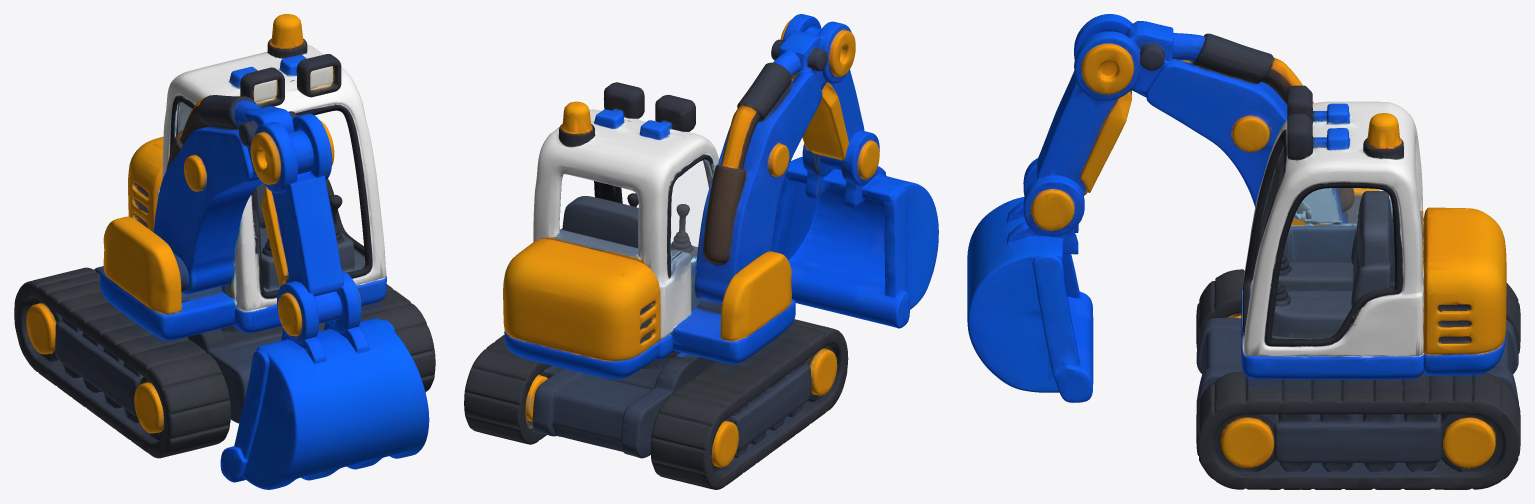
Rendered from excavator.glb.
3 views of the same model, side by side, from view 1: azimuth 30°, elevation 25°; view 2: azimuth 150°, elevation 25°; view 3: azimuth 270°, elevation 25° (orthographic). The views are drawn at different scales.
Parts seen in each view (by area): view 1: tripo_part_1, tripo_part_5, tripo_part_3, tripo_part_0, tripo_part_6, tripo_part_4, tripo_part_2, tripo_part_16, tripo_part_8, tripo_part_13, tripo_part_18, tripo_part_14 (+4 smaller); view 2: tripo_part_1, tripo_part_0, tripo_part_3, tripo_part_8, tripo_part_5, tripo_part_4, tripo_part_6, tripo_part_16, tripo_part_2, tripo_part_7, tripo_part_9, tripo_part_14 (+4 smaller); view 3: tripo_part_0, tripo_part_2, tripo_part_1, tripo_part_5, tripo_part_8, tripo_part_15, tripo_part_16, tripo_part_4, tripo_part_7, tripo_part_11, tripo_part_3, tripo_part_10 (+6 smaller).
Boxes of the visible parts, bbox=[...] form: tripo_part_1: bbox=[153, 95, 343, 323]; tripo_part_5: bbox=[243, 271, 429, 489]; tripo_part_3: bbox=[14, 267, 230, 458]; tripo_part_0: bbox=[157, 14, 386, 333]; tripo_part_6: bbox=[100, 216, 242, 340]; tripo_part_4: bbox=[55, 266, 325, 423]; tripo_part_2: bbox=[360, 284, 435, 392]; tripo_part_16: bbox=[220, 320, 395, 482]; tripo_part_8: bbox=[128, 137, 163, 231]; tripo_part_13: bbox=[296, 54, 341, 97]; tripo_part_18: bbox=[240, 67, 284, 107]; tripo_part_14: bbox=[261, 186, 288, 286]; tripo_part_1: bbox=[694, 14, 864, 303]; tripo_part_0: bbox=[533, 101, 719, 359]; tripo_part_3: bbox=[650, 319, 848, 489]; tripo_part_8: bbox=[503, 239, 660, 360]; tripo_part_5: bbox=[783, 131, 938, 309]; tripo_part_4: bbox=[532, 352, 811, 458]; tripo_part_6: bbox=[641, 251, 795, 369]; tripo_part_16: bbox=[771, 177, 910, 328]; tripo_part_2: bbox=[464, 335, 552, 444]; tripo_part_7: bbox=[561, 196, 638, 247]; tripo_part_9: bbox=[504, 330, 660, 379]; tripo_part_14: bbox=[802, 82, 848, 158]; tripo_part_0: bbox=[1241, 101, 1424, 379]; tripo_part_2: bbox=[1196, 371, 1520, 489]; tripo_part_1: bbox=[1037, 14, 1354, 223]; tripo_part_5: bbox=[967, 158, 1084, 392]; tripo_part_8: bbox=[1423, 207, 1506, 354]; tripo_part_15: bbox=[1273, 421, 1442, 462]; tripo_part_16: bbox=[1032, 253, 1093, 402]; tripo_part_4: bbox=[1196, 317, 1518, 410]; tripo_part_7: bbox=[1351, 191, 1391, 307]; tripo_part_11: bbox=[1272, 281, 1351, 338]; tripo_part_3: bbox=[1196, 269, 1520, 353]; tripo_part_10: bbox=[1278, 253, 1353, 291].
Bounding box in the file's own units: 2.02 × 2.62 × 3.53.
Materials: 26 (24 with a texture image).
